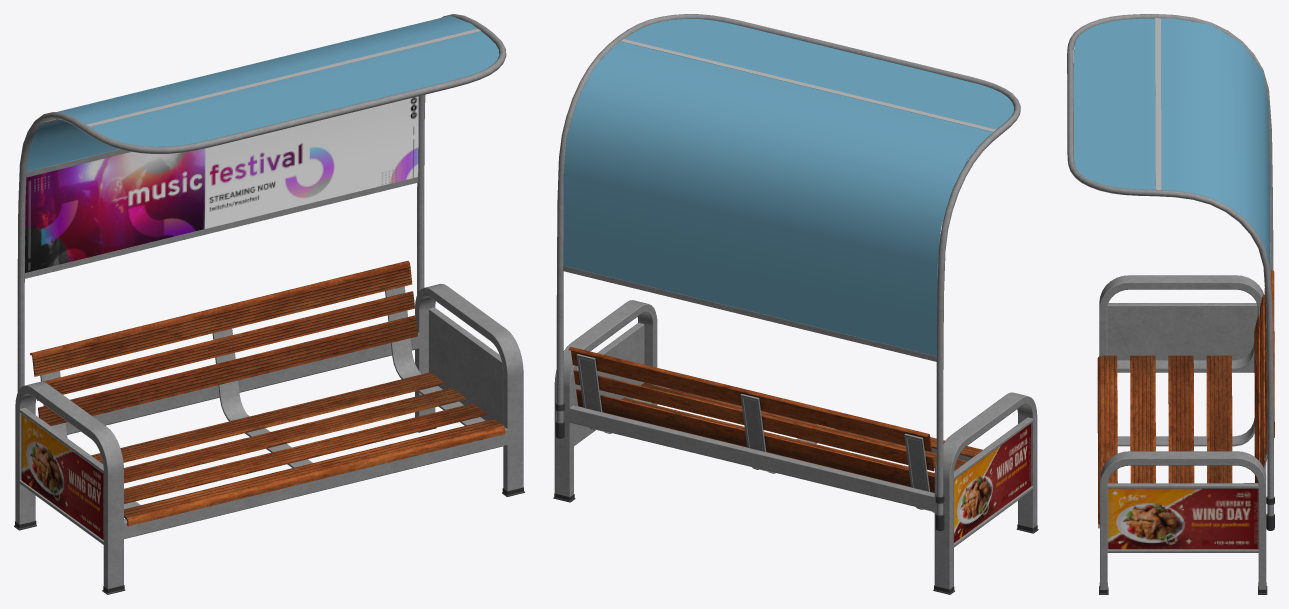
Rendered from отсановка.glb.
3 views of the same model, side by side, from view 1: azimuth 30°, elevation 25°; view 2: azimuth 150°, elevation 25°; view 3: azimuth 270°, elevation 25° (orthographic). The views are drawn at different scales.
Parts seen in each view (by area): view 1: Bench; view 2: Bench; view 3: Bench.
Boxes of the visible parts, x1,y1,x2,y2 form: Bench: [14, 14, 524, 594]; Bench: [553, 14, 1038, 594]; Bench: [1067, 14, 1274, 594].
Size of the model in its own units: 0.1185 by 0.1205 by 0.0566.
Materials: 1 (1 with a texture image).
